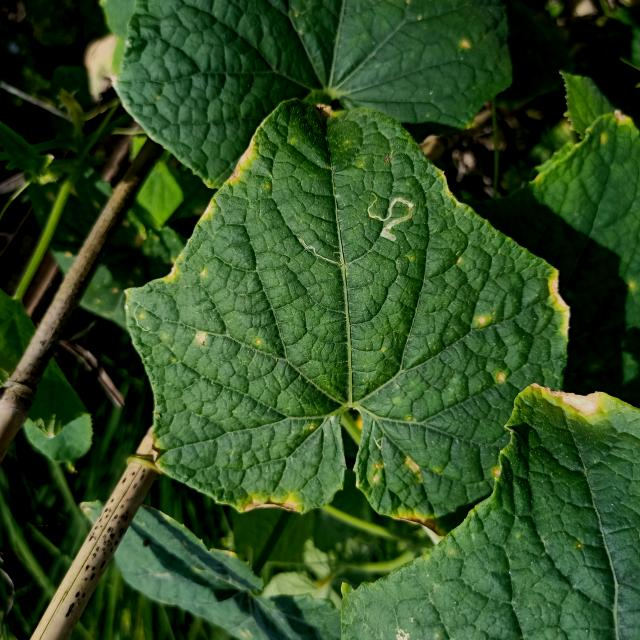disease_cucumber: (368, 452, 422, 485), (161, 259, 209, 288), (192, 328, 211, 347), (472, 312, 493, 329), (495, 368, 508, 386)
